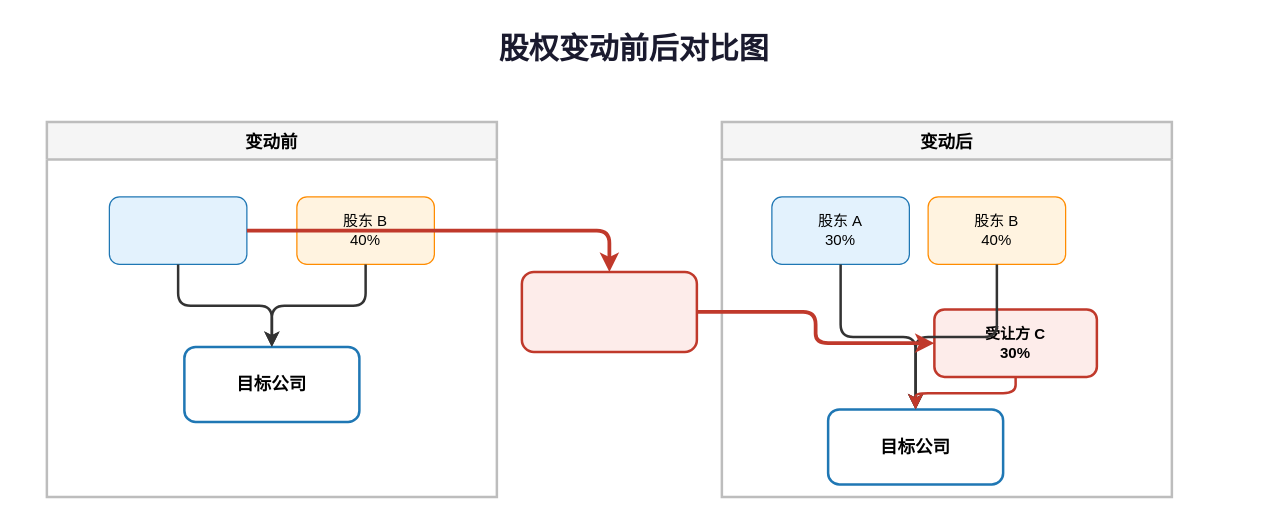
The diagram is 1268 pixels wide and 519 high, and some of its shapes have lost their labels. The shapes that lost their labels are listed below. From the top down, each one's centre as x and y in pixels, then its label:
(x=177, y=230): 股东 A 60%
(x=609, y=311): 股权转让/增资 （待补充日期、价款）
